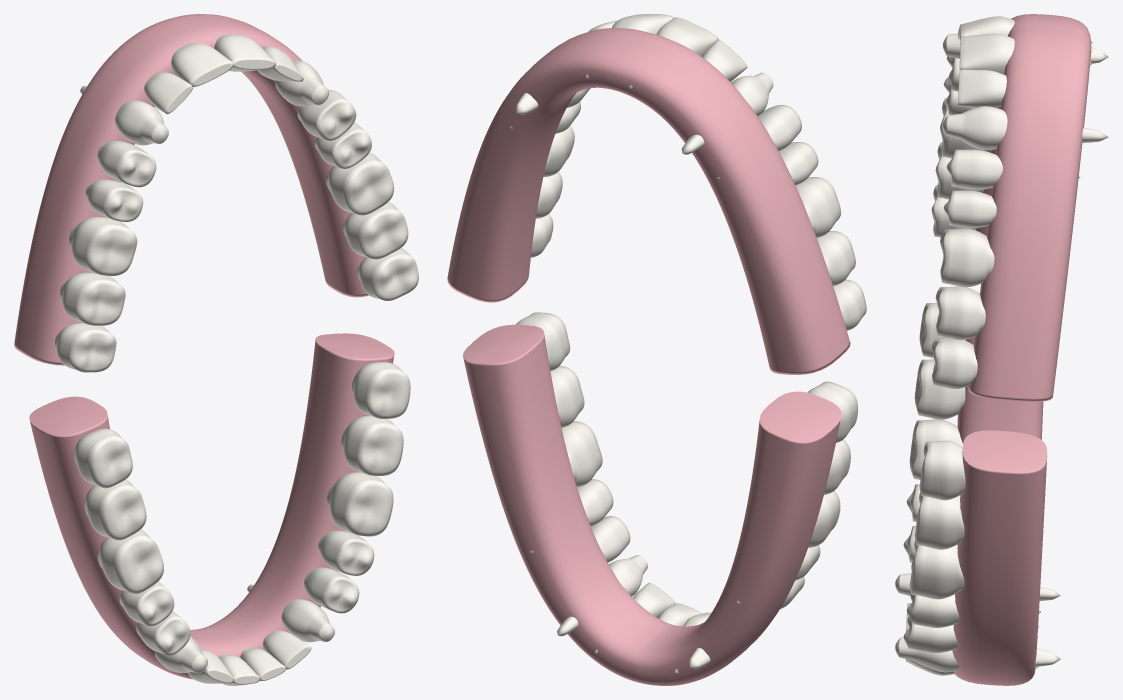
Rendered from Removable.glb.
3 views of the same model, side by side, from view 1: azimuth 30°, elevation 25°; view 2: azimuth 150°, elevation 25°; view 3: azimuth 270°, elevation 25° (orthographic). The views are drawn at different scales.
Parts seen in each view (by area): view 1: Gum_Lower, Gum_Upper, Tooth_36, Tooth_16, Tooth_46, Tooth_37, Tooth_26, Tooth_47, Tooth_17, Tooth_38, Tooth_48, Tooth_27 (+22 smaller); view 2: Gum_Lower, Gum_Upper, Tooth_36, Tooth_16, Tooth_37, Tooth_17, Tooth_38, Tooth_13, Tooth_14, Tooth_11, Tooth_48, Tooth_33 (+12 smaller); view 3: Gum_Upper, Gum_Lower, Tooth_26, Tooth_36, Tooth_23, Tooth_38, Tooth_27, Tooth_37, Tooth_28, Tooth_47, Tooth_24, Tooth_21 (+15 smaller).
Boxes of the visible parts, bbox=[...] form: Gum_Lower: bbox=[29, 333, 394, 679]; Gum_Upper: bbox=[14, 14, 368, 365]; Tooth_36: bbox=[327, 472, 393, 536]; Tooth_16: bbox=[69, 217, 137, 275]; Tooth_46: bbox=[97, 529, 163, 593]; Tooth_37: bbox=[341, 415, 403, 475]; Tooth_26: bbox=[326, 152, 394, 215]; Tooth_47: bbox=[84, 479, 146, 540]; Tooth_17: bbox=[60, 272, 125, 325]; Tooth_38: bbox=[352, 362, 410, 418]; Tooth_48: bbox=[74, 428, 132, 488]; Tooth_27: bbox=[343, 202, 408, 259]; Gum_Lower: bbox=[463, 324, 841, 685]; Gum_Upper: bbox=[447, 28, 850, 374]; Tooth_36: bbox=[561, 421, 602, 487]; Tooth_16: bbox=[796, 177, 841, 237]; Tooth_37: bbox=[550, 365, 584, 427]; Tooth_17: bbox=[817, 231, 855, 285]; Tooth_38: bbox=[516, 312, 570, 370]; Tooth_13: bbox=[681, 72, 773, 154]; Tooth_14: bbox=[717, 105, 801, 179]; Tooth_11: bbox=[629, 17, 718, 89]; Tooth_48: bbox=[807, 381, 857, 442]; Tooth_33: bbox=[557, 555, 647, 636]; Gum_Upper: bbox=[968, 14, 1091, 401]; Gum_Lower: bbox=[952, 337, 1047, 685]; Tooth_26: bbox=[940, 228, 994, 287]; Tooth_36: bbox=[909, 540, 964, 599]; Tooth_23: bbox=[943, 106, 1108, 150]; Tooth_38: bbox=[919, 440, 965, 500]; Tooth_27: bbox=[935, 286, 985, 340]; Tooth_37: bbox=[914, 492, 964, 549]; Tooth_28: bbox=[931, 338, 977, 388]; Tooth_47: bbox=[914, 359, 965, 419]; Tooth_24: bbox=[946, 149, 1080, 189]; Tooth_21: bbox=[959, 33, 1092, 74].
Size of the model in its own units: 7.72 by 12.59 by 3.77.
